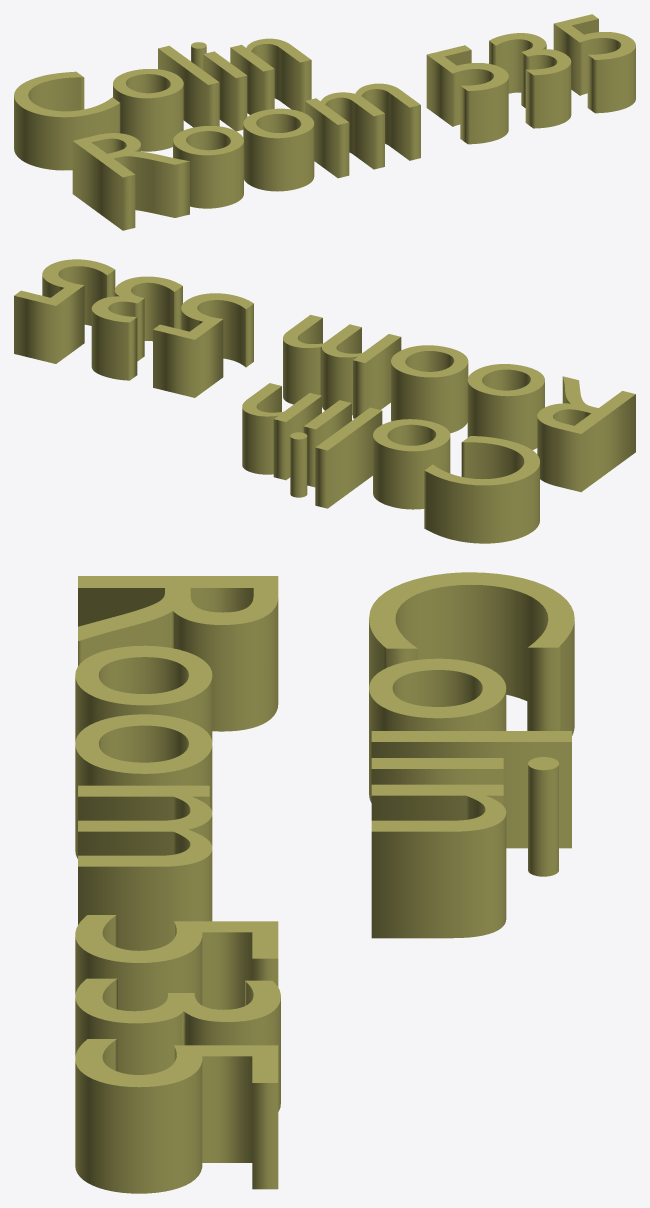
Rendered from colin-535.gltf.
3 views of the same model, one above another, from view 1: azimuth 30°, elevation 25°; view 2: azimuth 150°, elevation 25°; view 3: azimuth 270°, elevation 25° (orthographic). The views are drawn at different scales.
Visible parts, largest first — view 1: Text; view 2: Text; view 3: Text.
Boxes of the visible parts, <box> form: Text: <box>14,14,635,230</box>; Text: <box>14,259,635,543</box>; Text: <box>75,572,574,1193</box>.
Size of the model in its own units: 4.15 by 0.4 by 1.7.
